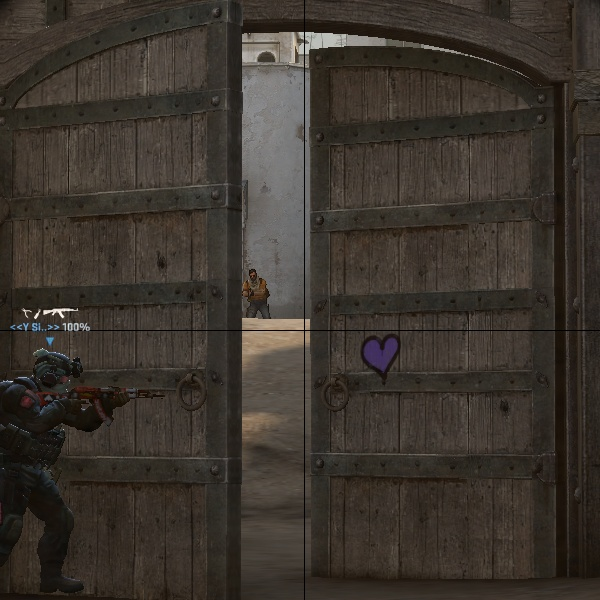ct_body: (2, 337, 123, 592)
ct_head: (28, 340, 89, 404)
t_body: (239, 265, 272, 320)
t_head: (246, 268, 259, 281)
